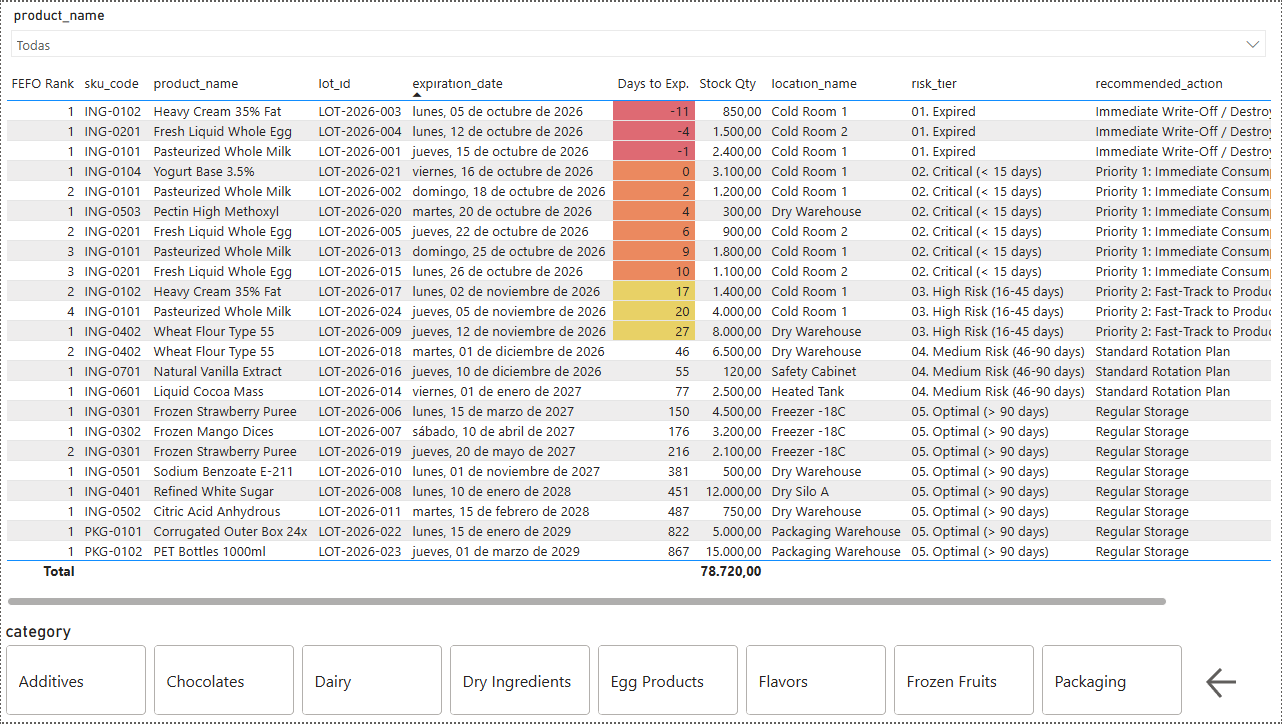

The dashboard page shown, as its layout file describes it:
{"tool":"powerbi","page":{"name":"FEFO Picking List","canvas":[1280,720],"ordinal":1},"visuals":[{"type":"tableEx","fields":{"Values":["Sum(public vw_fefo_inventory_analysis.fefo_priority_rank)","public vw_fefo_inventory_analysis.sku_code","public vw_fefo_inventory_analysis.product_name","public vw_fefo_inventory_analysis.lot_id","public vw_fefo_inventory_analysis.expiration_date","Sum(public vw_fefo_inventory_analysis.days_to_expiration)","Sum(public vw_fefo_inventory_analysis.stock_quantity)","public vw_fefo_inventory_analysis.location_name","public vw_fefo_inventory_analysis.risk_tier","public vw_fefo_inventory_analysis.recommended_action"]},"box":[0,66,1275,543],"z":0},{"type":"slicer","fields":{"Values":["public vw_fefo_inventory_analysis.product_name"]},"box":[0,0,1275,77],"z":1000},{"type":"advancedSlicerVisual","fields":{"Values":["public vw_fefo_inventory_analysis.category"]},"box":[0,619,1275,101],"z":2000},{"type":"actionButton","box":[1201,661,63,40],"z":3000}]}

Visuals, with their boxes on the page's 1280x720 design canvas (x1, y1, x2, y2). These are canvas units, not pixel positions in the 1282x725 screenshot, which may show the page scaled, cropped or inside an application window:
tableEx - Sum(public vw_fefo_inventory_analysis.fefo_priority_rank) x public vw_fefo_inventory_analysis.sku_code: BBox(0, 66, 1275, 609)
slicer - public vw_fefo_inventory_analysis.product_name: BBox(0, 0, 1275, 77)
advancedSlicerVisual - public vw_fefo_inventory_analysis.category: BBox(0, 619, 1275, 720)
actionButton: BBox(1201, 661, 1264, 701)
